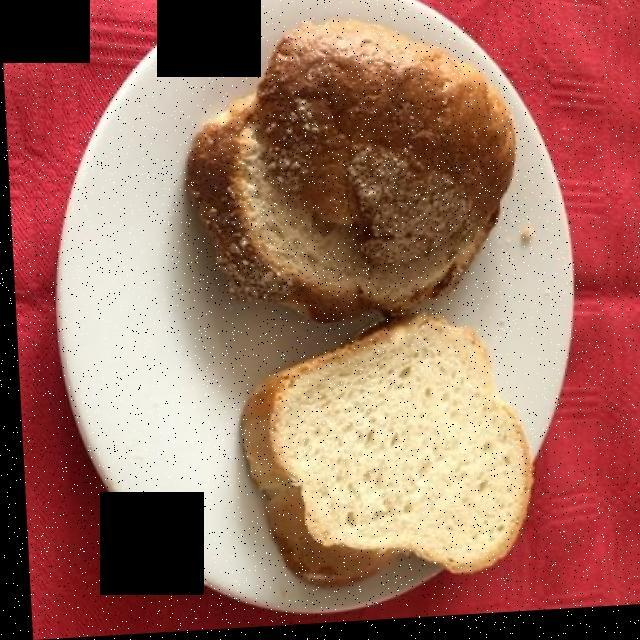bread: (192, 30, 508, 314), (245, 324, 526, 581)
